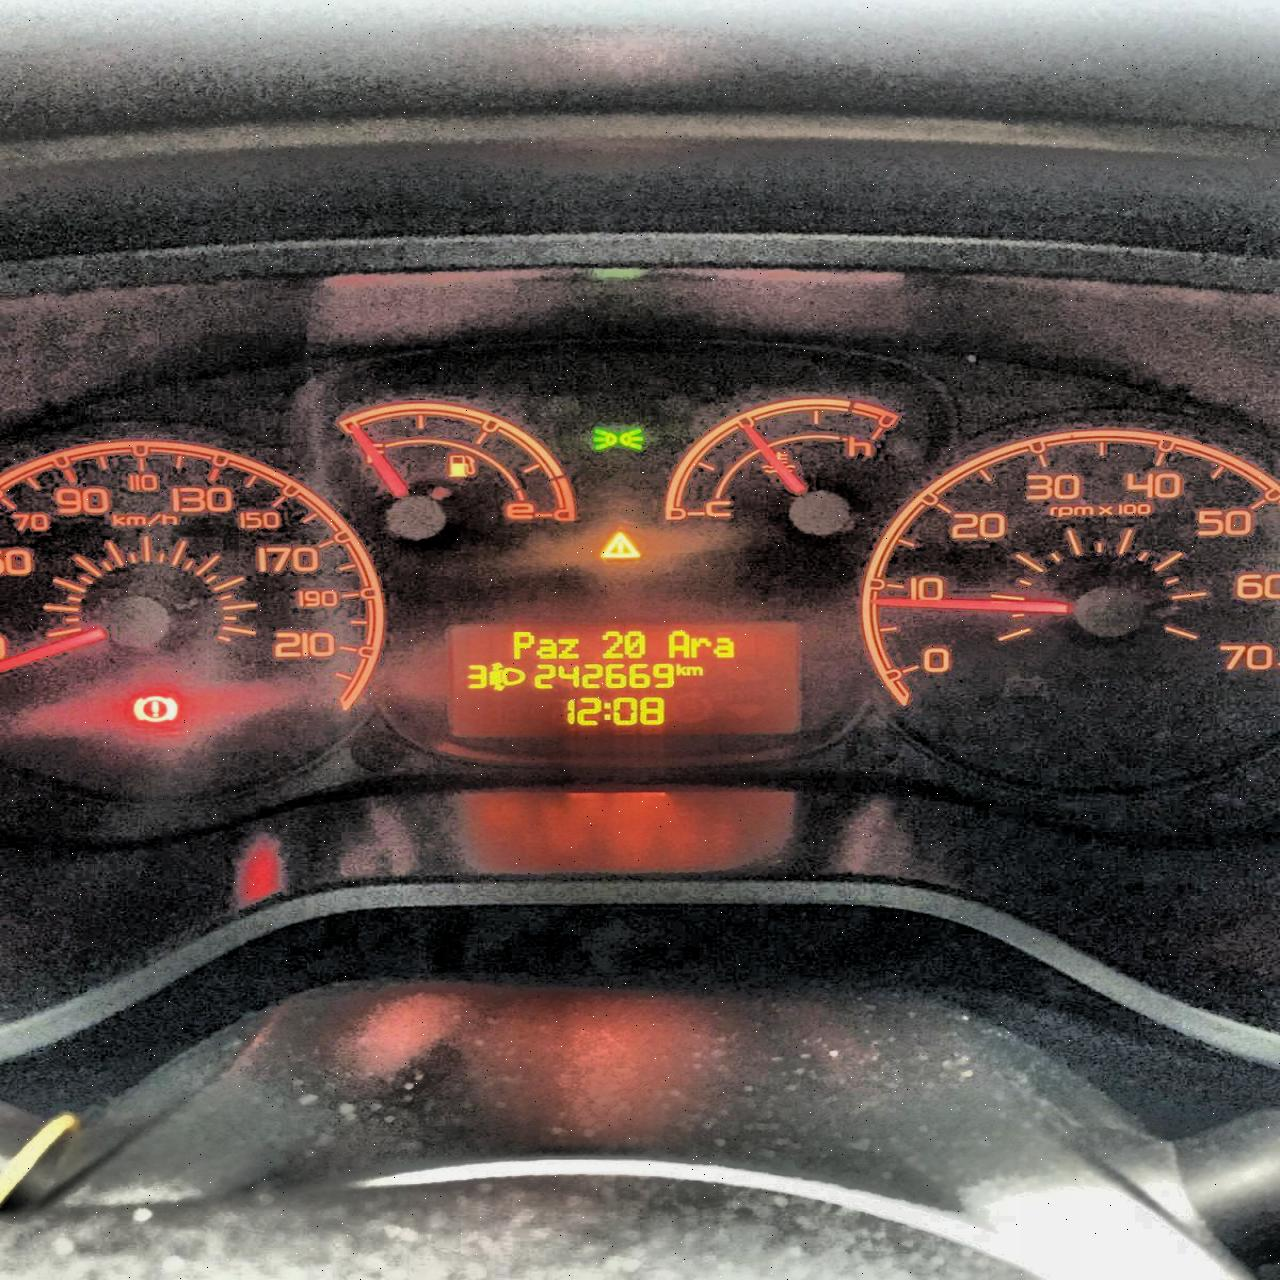0: (612, 695, 638, 727), (624, 628, 646, 659)
1: (565, 696, 574, 726)
2: (577, 695, 600, 727), (601, 629, 625, 660), (532, 662, 554, 689), (581, 662, 604, 689)
3: (467, 661, 488, 688)
4: (557, 663, 579, 689)
6: (605, 661, 626, 688), (629, 661, 651, 688)
8: (638, 694, 666, 726)
9: (653, 661, 674, 688)
X: (667, 628, 689, 659), (511, 629, 533, 659), (557, 635, 581, 659), (713, 635, 736, 659), (689, 635, 712, 658), (536, 636, 557, 659), (685, 665, 704, 676), (602, 700, 611, 723), (675, 662, 685, 676)
odometer: (445, 621, 806, 736)
